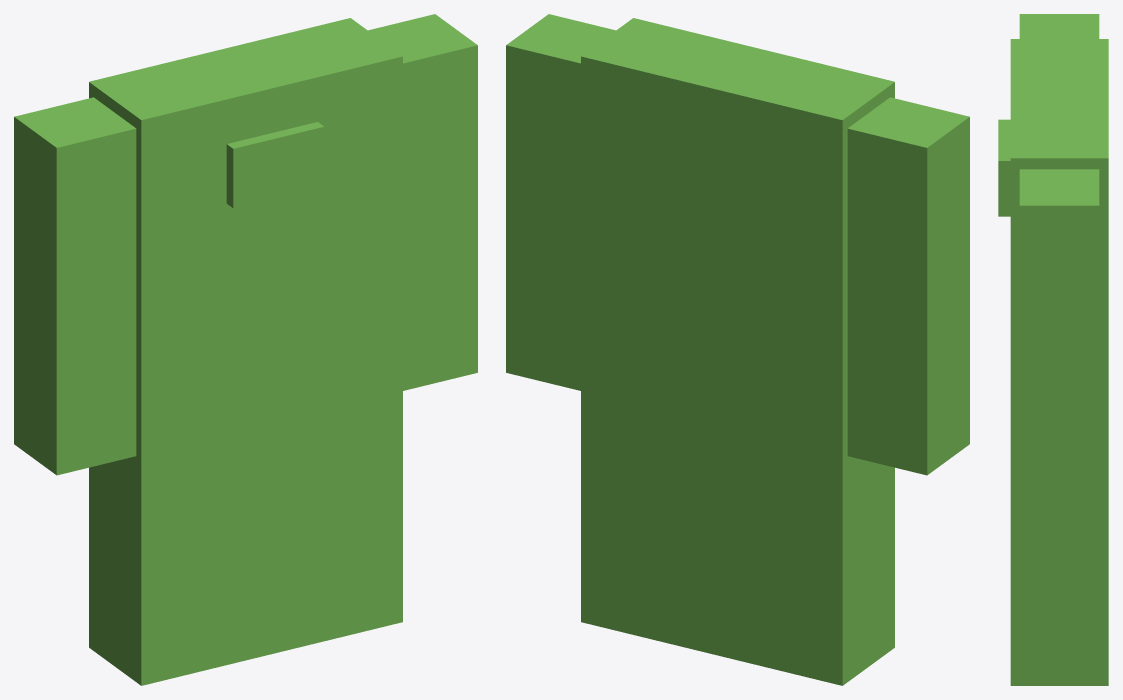
File: c_kurta_colored.glb
The picture shows the model from 3 angles, left to right: view 1: azimuth 30°, elevation 25°; view 2: azimuth 150°, elevation 25°; view 3: azimuth 270°, elevation 25°; orthographic projection. The views are drawn at different scales.
Visible parts, largest first — view 1: c_kurta_colored; view 2: c_kurta_colored; view 3: c_kurta_colored.
Part boxes in pixels (x1,y1,x2,y2): c_kurta_colored: [14, 14, 477, 685]; c_kurta_colored: [506, 14, 969, 685]; c_kurta_colored: [998, 14, 1108, 685].
Bounding box in the file's own units: 0.74 × 0.95 × 0.18.
